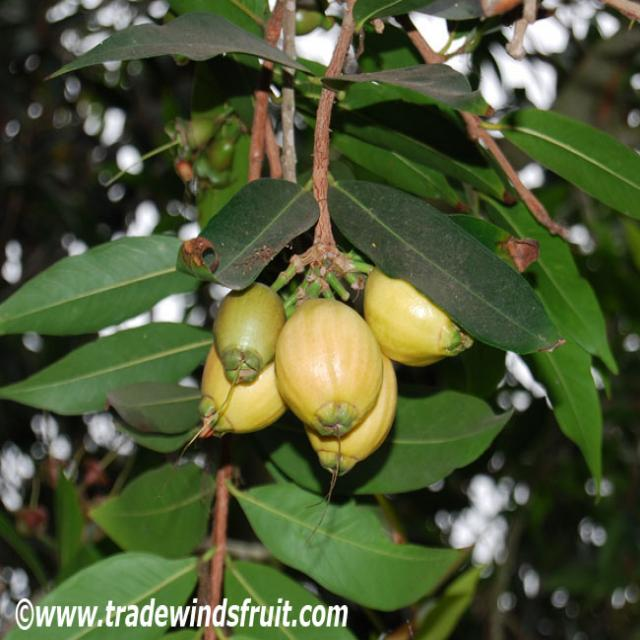Medicinal-Rose Apple: (12, 0, 631, 594)
